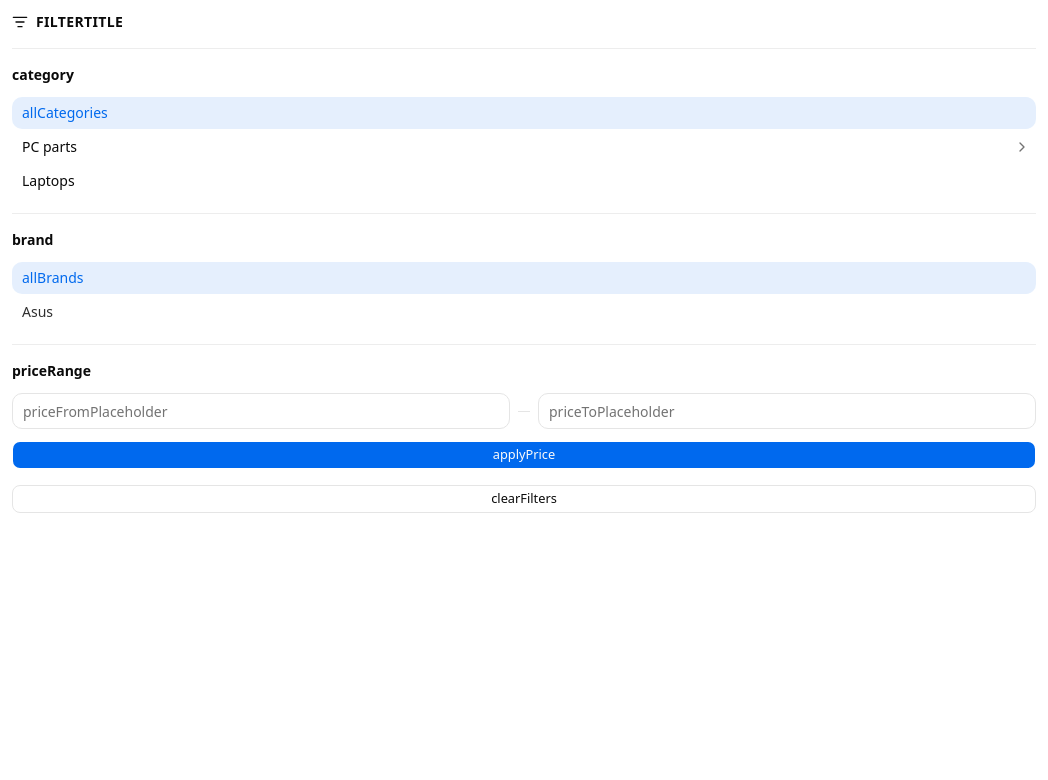
Test: opens and folds a parent with its arrow without choosing it
This screenshot has width=1048, height=780.
Click the button named "expandChildren".
click(1022, 147)  # box [1008, 133, 1036, 161]
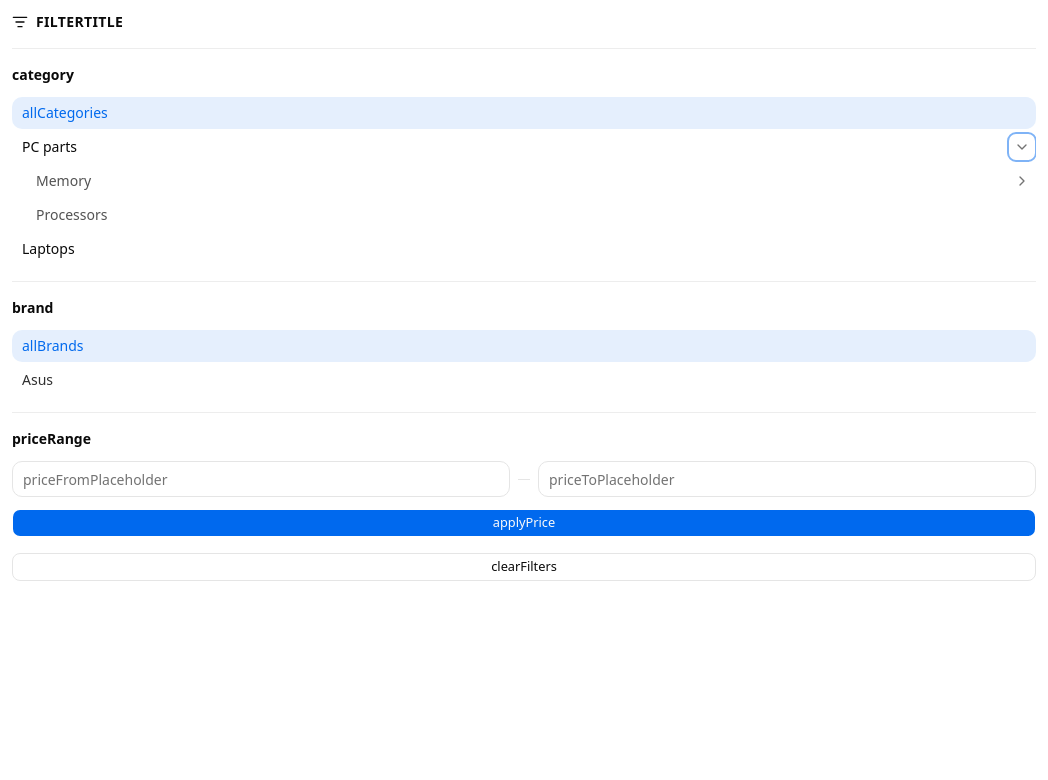
Result: the radio button labelled "Memory" is shown at [36, 171, 91, 190]
Result: the radio button labelled "Processors" is shown at [36, 205, 107, 224]
Click the button named "collapseChildren".
click(1022, 147)  # box [1008, 133, 1036, 161]
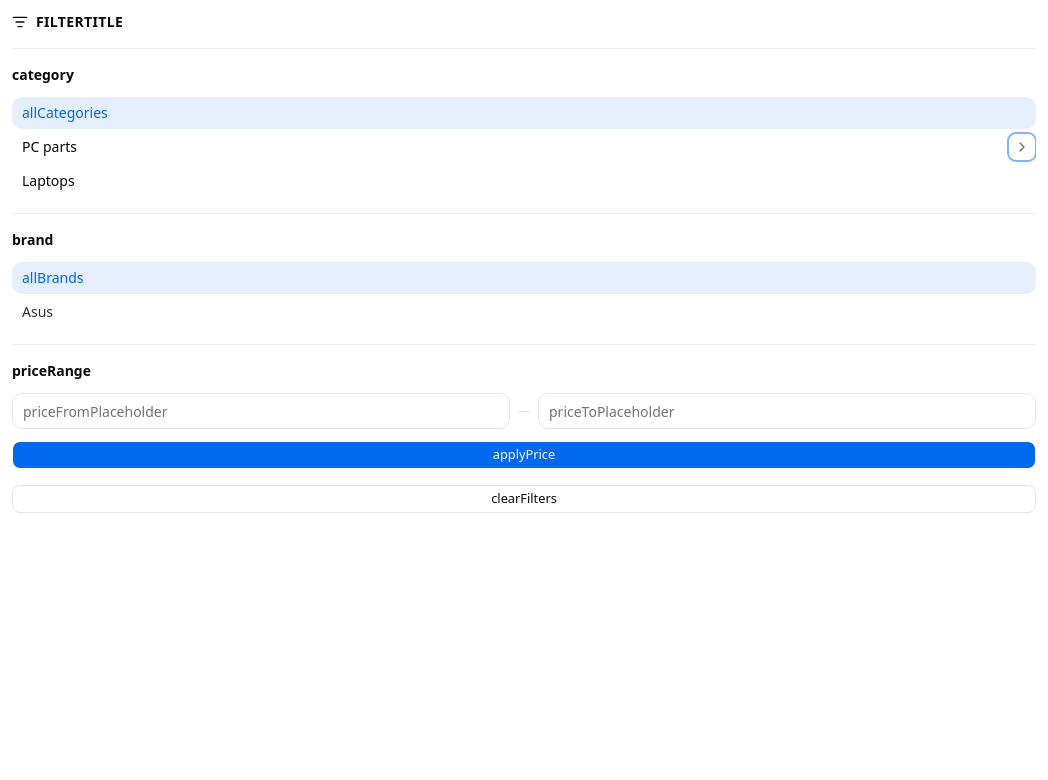
Result: the text "Memory" is gone
